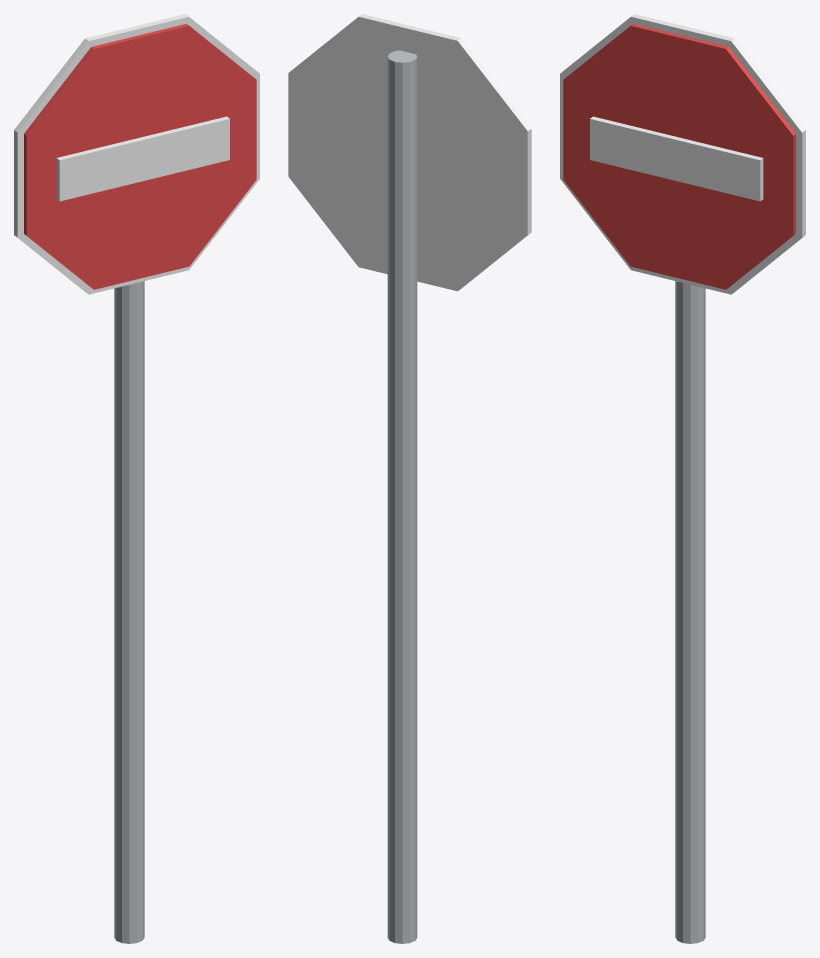
The model's file is road_sign.glb.
3 views of the same model, side by side, from view 1: azimuth 30°, elevation 25°; view 2: azimuth 150°, elevation 25°; view 3: azimuth 330°, elevation 25° (orthographic).
Visible parts, largest first — view 1: road_sign; view 2: road_sign; view 3: road_sign.
Part boxes in pixels (x1,y1,x2,y2): road_sign: (14,14,259,943); road_sign: (288,14,531,943); road_sign: (560,14,805,943).
Size of the model in its own units: 0.7391 by 2.67 by 0.122.
